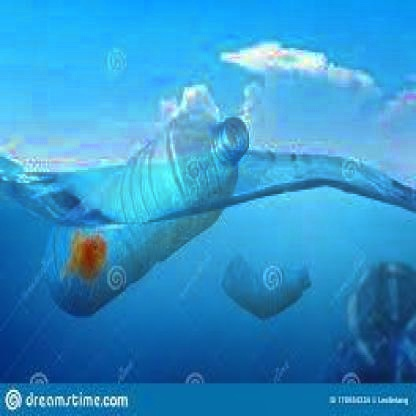pbottle: (35, 104, 247, 326), (227, 250, 315, 326)
